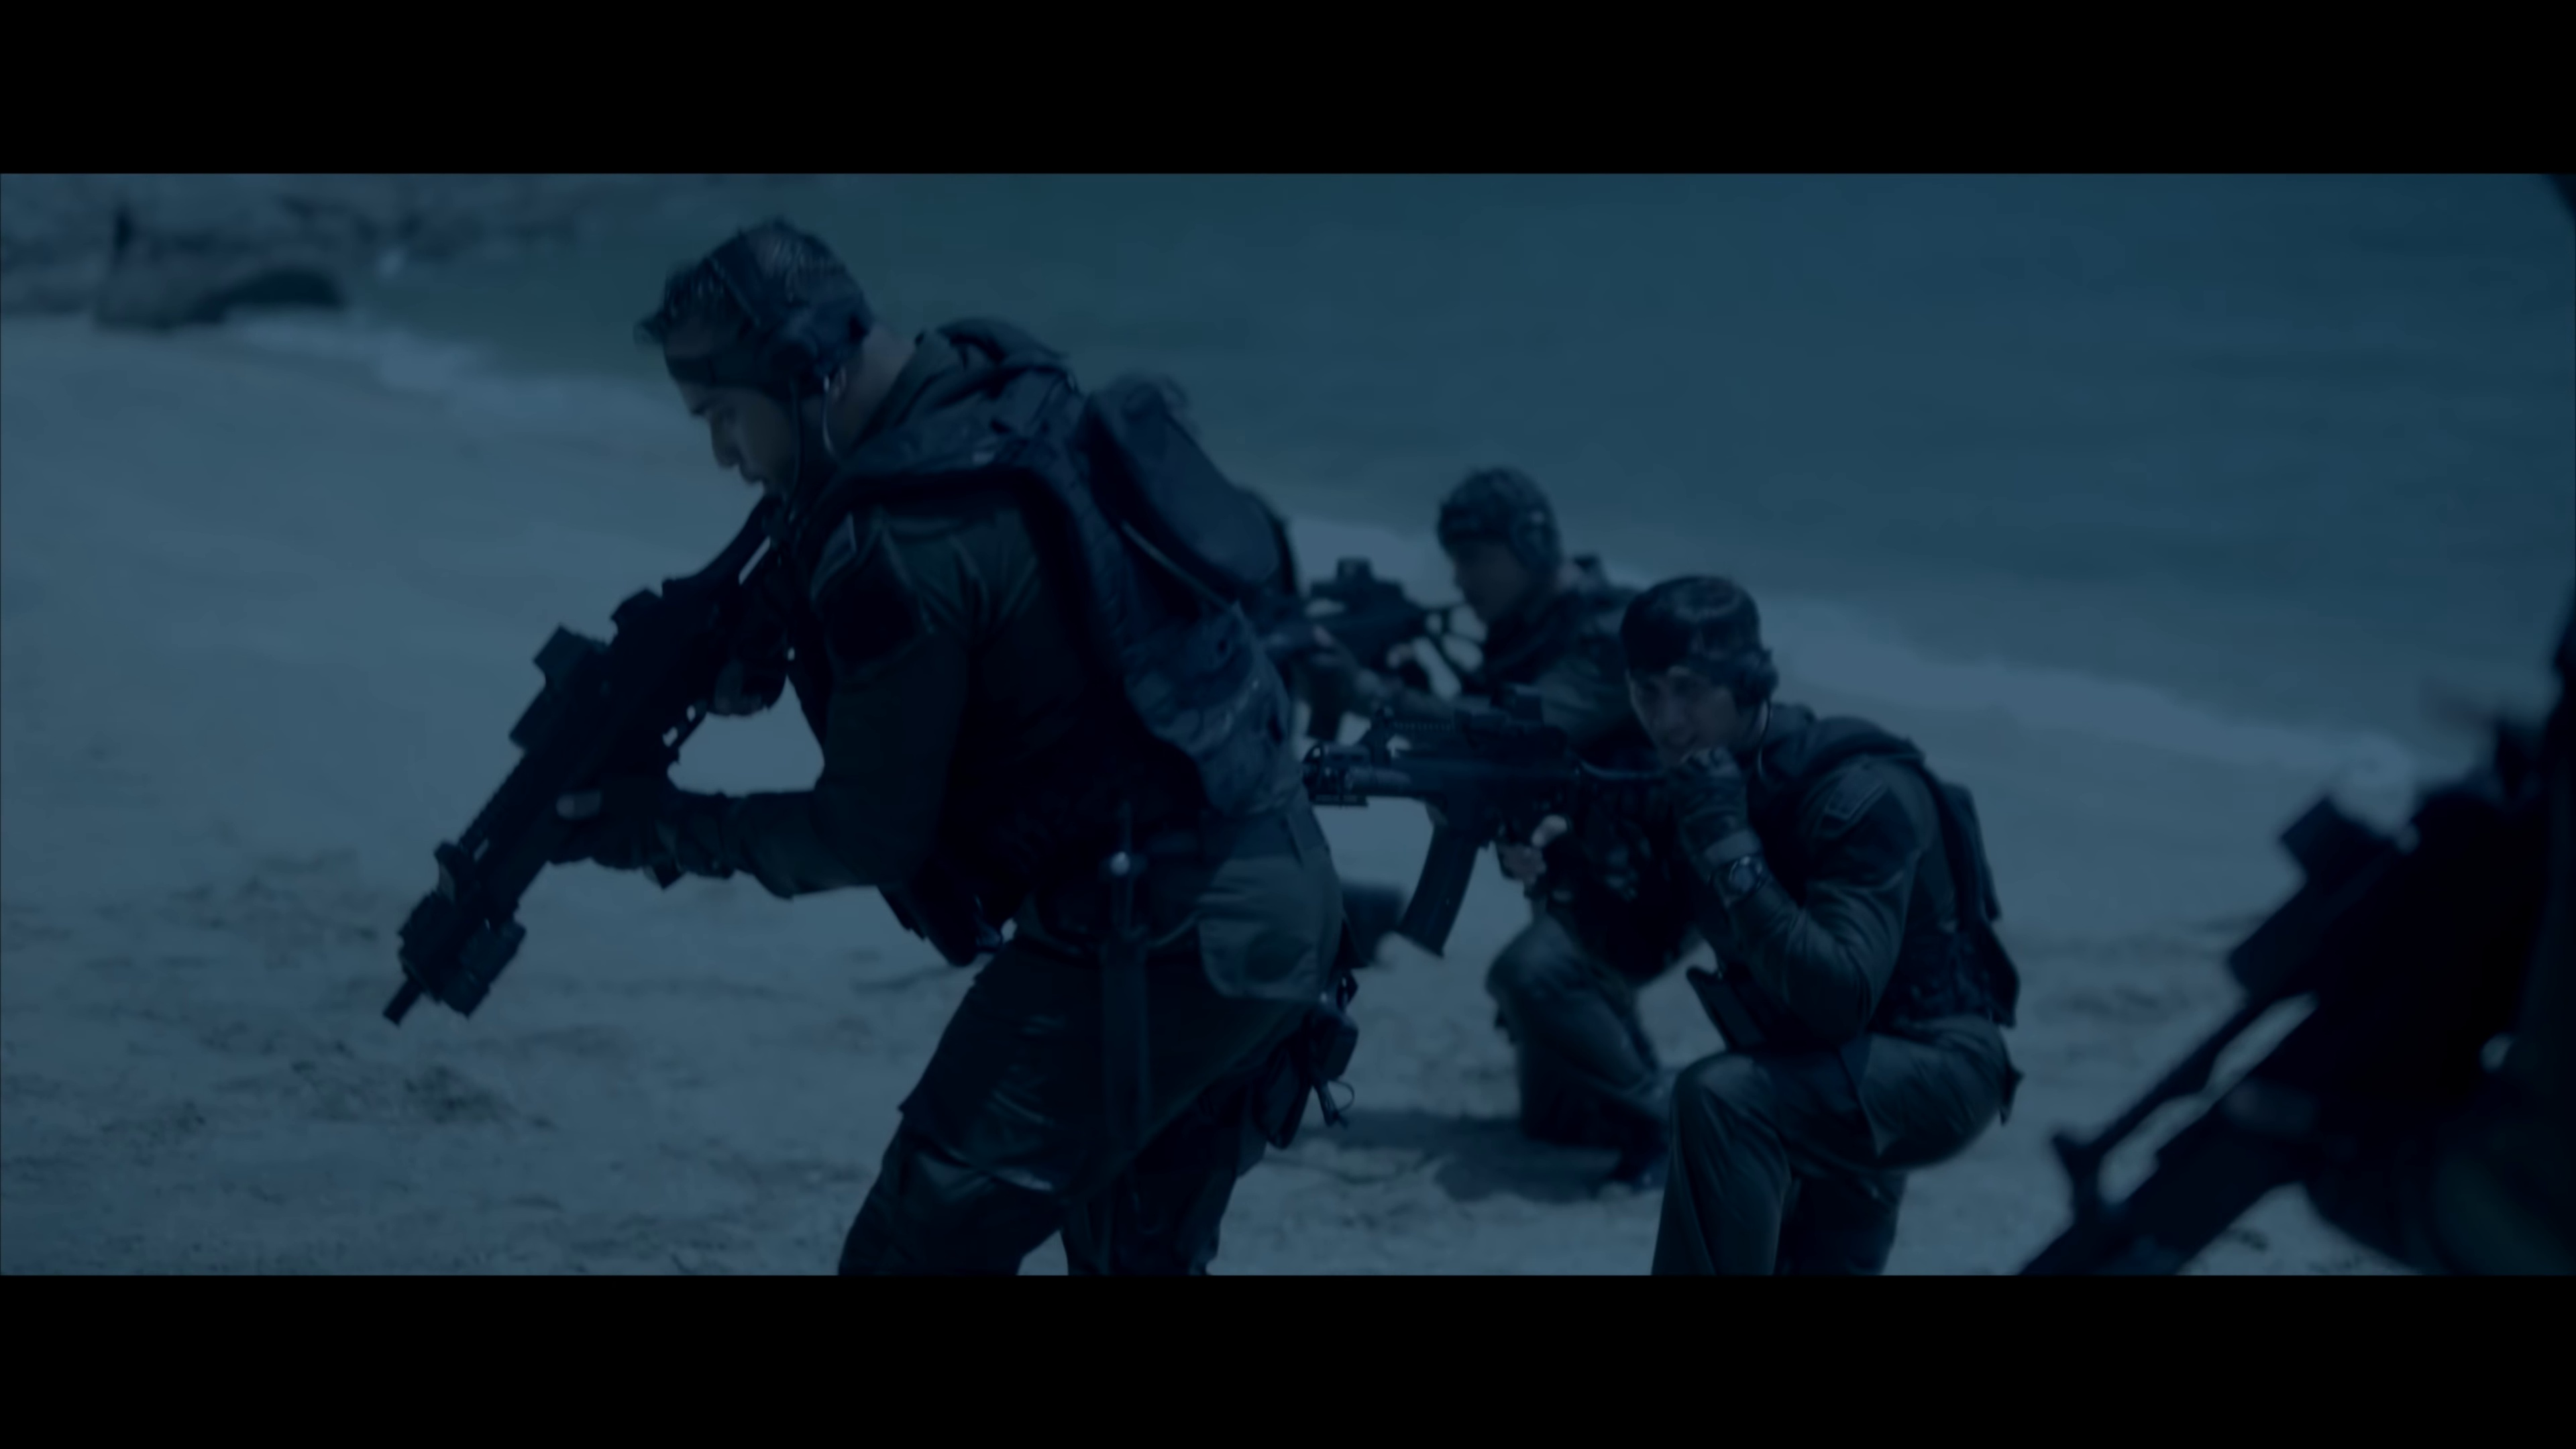gun: (2056, 667, 2576, 1269), (380, 481, 809, 1046), (1293, 692, 1697, 943), (1256, 552, 1500, 704)
p_w_gun: (380, 207, 1373, 1269), (1288, 561, 2017, 1274), (2006, 594, 2576, 1274), (1272, 462, 1661, 796)
